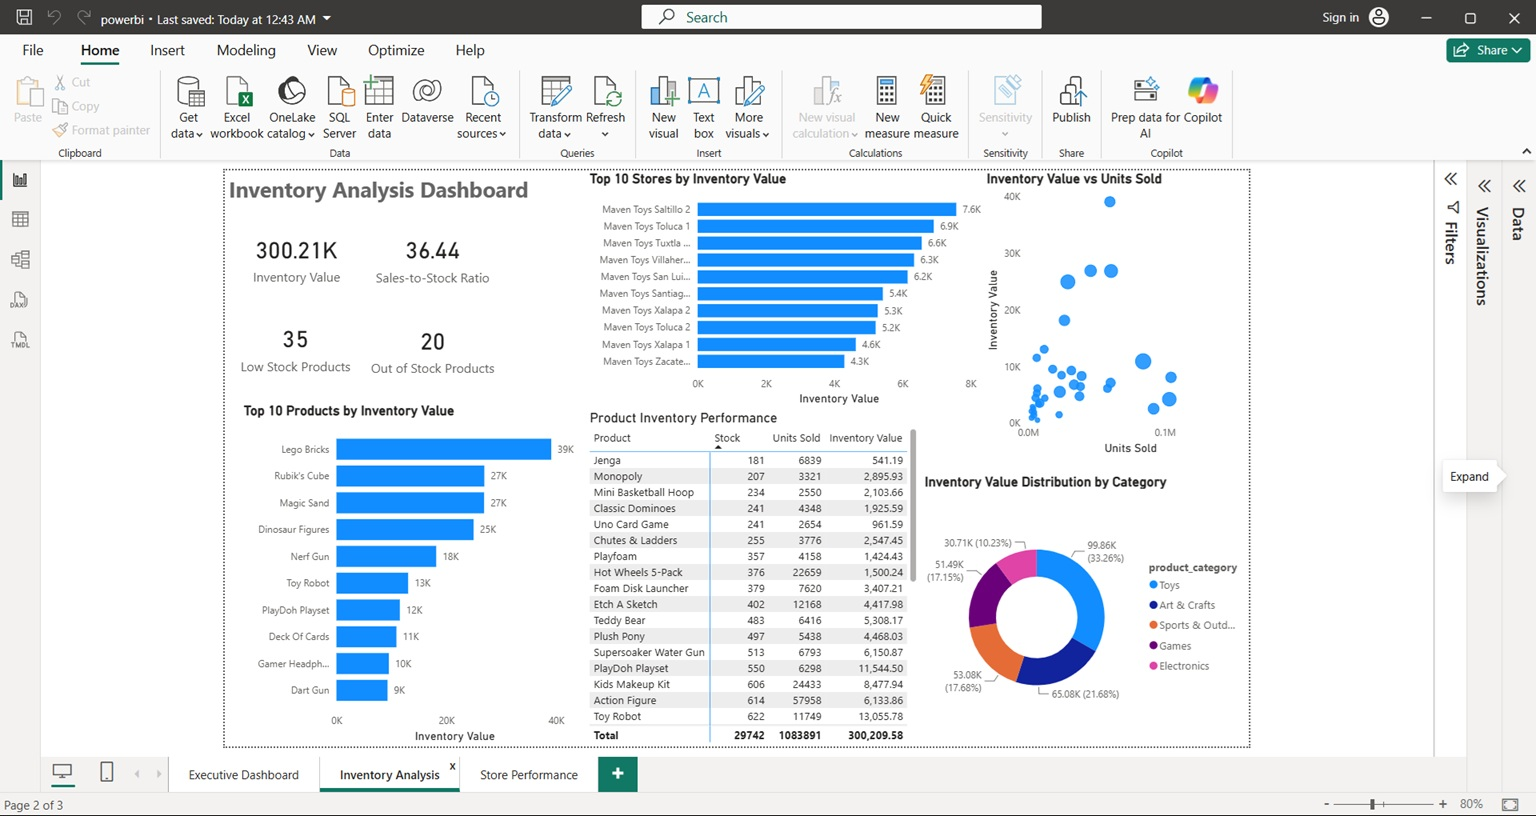

The dashboard page shown, as its layout file describes it:
{"tool":"powerbi","page":{"name":"Inventory Analysis","canvas":[1280,720],"ordinal":1},"visuals":[{"type":"card","fields":{"Values":["00_Measures.Inventory Value"]},"box":[2.4,45.2,174.9,127.2],"z":0},{"type":"barChart","title":"Top 10 Stores by Inventory Value","fields":{"Y":["00_Measures.Inventory Value"],"Category":["public vw_inventory_analysis.store_name"]},"box":[451.2,0,506.2,298.8],"z":1000},{"type":"barChart","title":"Top 10 Products by Inventory Value","fields":{"Y":["00_Measures.Inventory Value"],"Category":["public vw_inventory_analysis.product_name"]},"box":[18.8,290,432.5,430],"z":2000},{"type":"card","fields":{"Values":["00_Measures.Sales-to-Stock Ratio"]},"box":[177.3,51.4,165.1,116.2],"z":3000},{"type":"card","fields":{"Values":["00_Measures.Low Stock Products"]},"box":[1.2,162.6,174.9,114.9],"z":4000},{"type":"card","fields":{"Values":["00_Measures.Out of Stock Products"]},"box":[177.3,167.5,165.1,110.1],"z":5000},{"type":"textbox","box":[0,0,397.9,45.1],"z":6000},{"type":"pivotTable","title":" Product Inventory Performance","fields":{"Rows":["public vw_inventory_analysis.product_name"],"Values":["Sum(public vw_inventory_analysis.stock_on_hand)","Sum(public vw_inventory_analysis.total_units_sold)","00_Measures.Inventory Value"]},"box":[451.2,298.8,418.8,421.2],"z":7000},{"type":"donutChart","title":"Inventory Value Distribution by Category","fields":{"Y":["00_Measures.Inventory Value"],"Category":["public vw_inventory_analysis.product_category"]},"box":[870,378.8,410,341.2],"z":8000},{"type":"scatterChart","title":"Inventory Value vs Units Sold","fields":{"X":["Sum(public vw_inventory_analysis.total_units_sold)"],"Y":["00_Measures.Inventory Value"],"Category":["public vw_inventory_analysis.product_name"],"Size":["Sum(public vw_inventory_analysis.stock_on_hand)"]},"box":[947.5,0,332.5,360],"z":9000}]}

Visuals, with their boxes on the page's 1280x720 design canvas (x1, y1, x2, y2). These are canvas units, not pixel positions in the 1536x816 screenshot, which may show the page scaled, cropped or inside an application window:
card - 00_Measures.Inventory Value: select_region(2, 45, 177, 172)
"Top 10 Stores by Inventory Value" barChart: select_region(451, 0, 957, 299)
"Top 10 Products by Inventory Value" barChart: select_region(19, 290, 451, 720)
card - 00_Measures.Sales-to-Stock Ratio: select_region(177, 51, 342, 168)
card - 00_Measures.Low Stock Products: select_region(1, 163, 176, 278)
card - 00_Measures.Out of Stock Products: select_region(177, 168, 342, 278)
textbox: select_region(0, 0, 398, 45)
" Product Inventory Performance" pivotTable: select_region(451, 299, 870, 720)
"Inventory Value Distribution by Category" donutChart: select_region(870, 379, 1280, 720)
"Inventory Value vs Units Sold" scatterChart: select_region(948, 0, 1280, 360)
